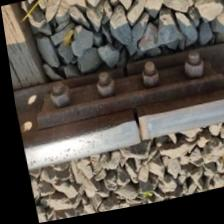person: (104, 103, 164, 161), (110, 62, 136, 86)
